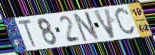2: (58, 15, 81, 44)
8: (37, 17, 59, 46)
C: (113, 6, 137, 39)
N: (72, 10, 102, 43)
T: (17, 18, 38, 49)
V: (91, 8, 118, 41)
